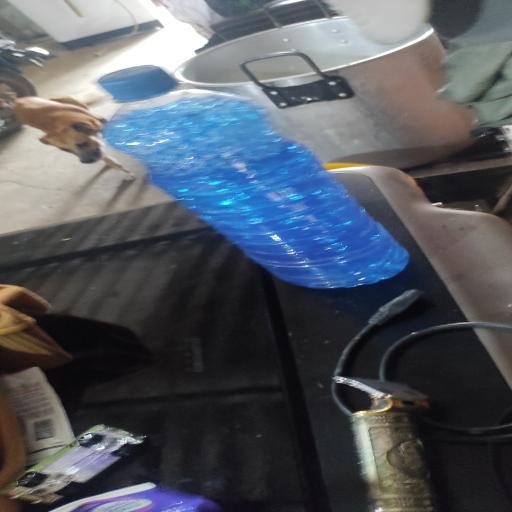Carrito: (2, 424, 144, 503)
